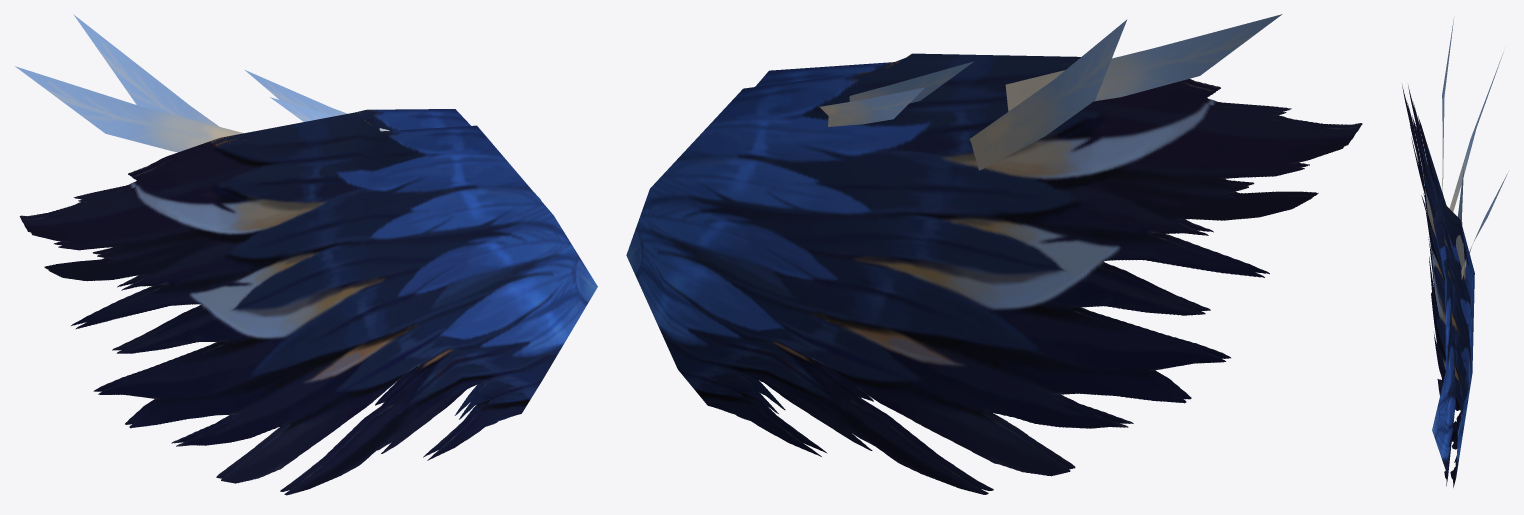
File: cb_mesh_gaoji_chibang_002.FBX
The picture shows the model from 3 angles, left to right: view 1: azimuth 30°, elevation 25°; view 2: azimuth 150°, elevation 25°; view 3: azimuth 270°, elevation 25°; orthographic projection. The views are drawn at different scales.
Parts seen in each view (by area): view 1: cb_mesh_gaoji_chibang_002; view 2: cb_mesh_gaoji_chibang_002; view 3: cb_mesh_gaoji_chibang_002.
Part boxes in pixels (left/top/right/bottom): cb_mesh_gaoji_chibang_002: left=15, top=14, right=597, bottom=495; cb_mesh_gaoji_chibang_002: left=626, top=14, right=1362, bottom=494; cb_mesh_gaoji_chibang_002: left=1402, top=19, right=1508, bottom=487.
Bounding box in the file's own units: 114 × 88.93 × 26.62.
